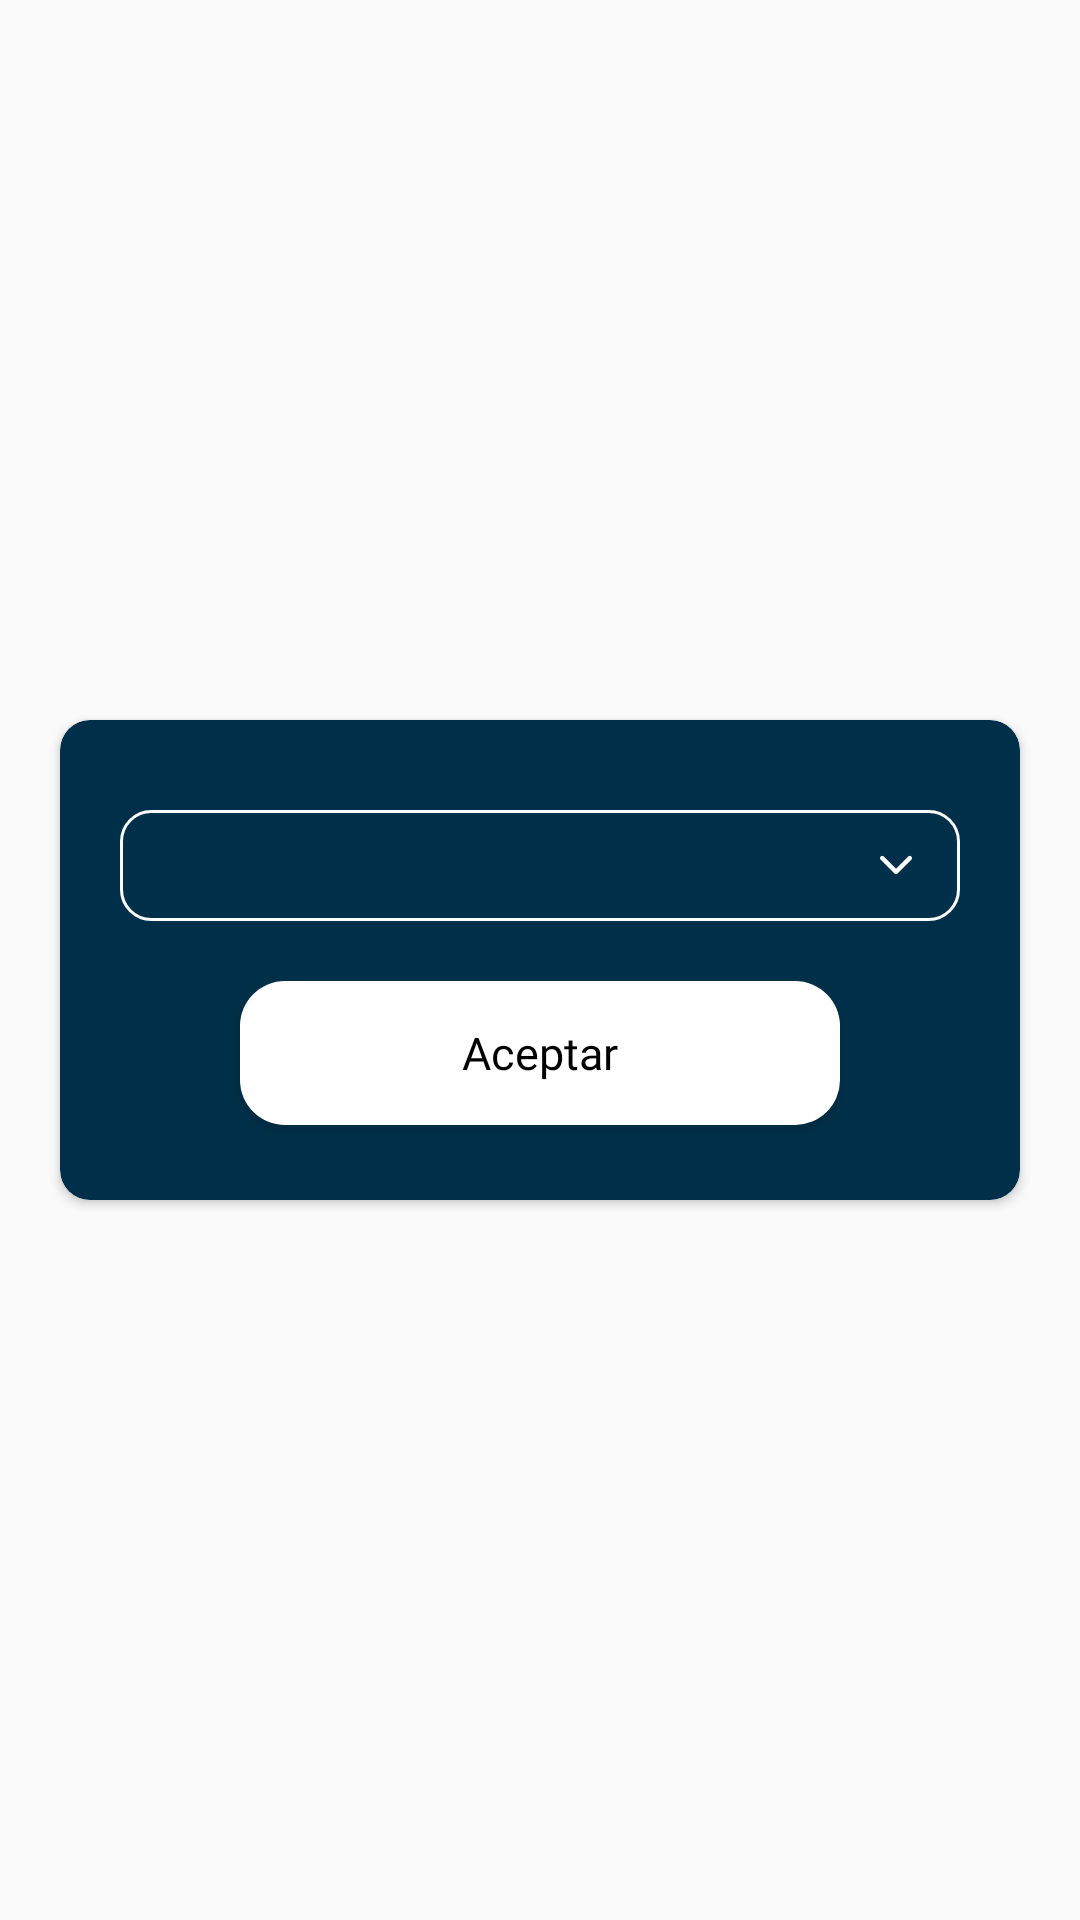

Locate icon controls on the screen. Image size 1080px×1920px, boxes as region(x1, y1, x2, y2).
down: region(880, 856, 912, 874)
